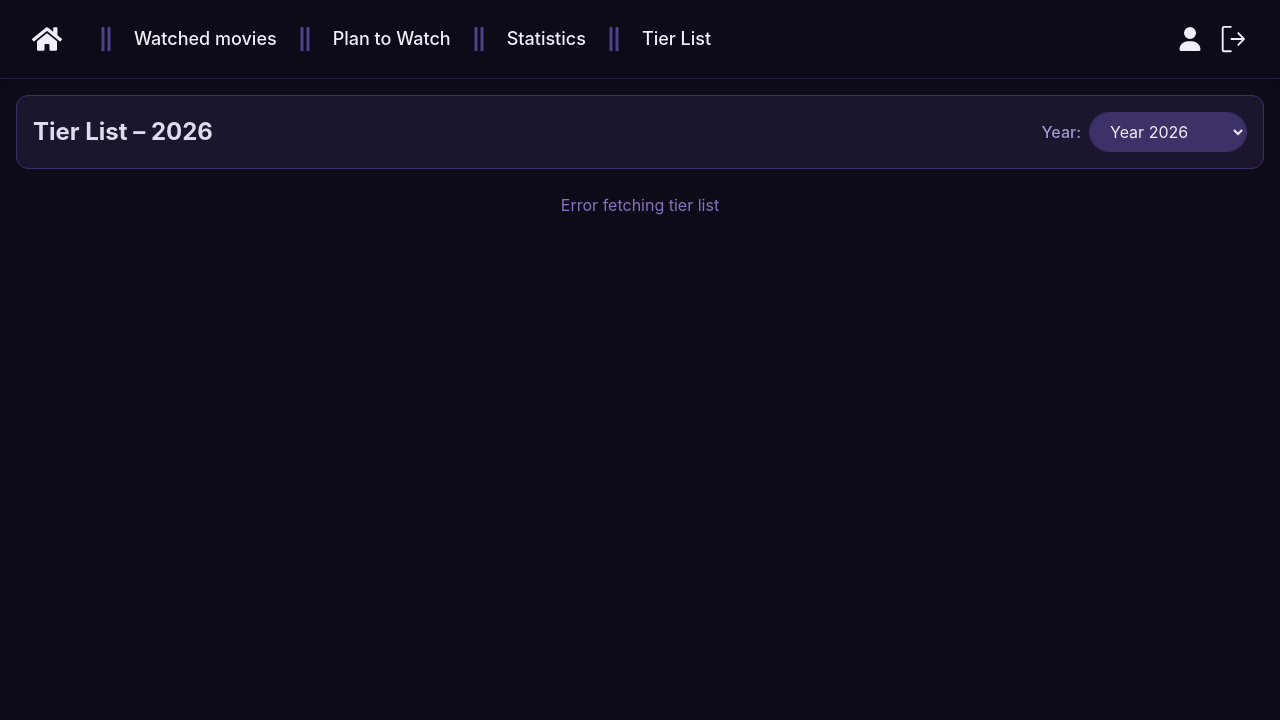
Scenario: TierList › shows the list of another year after a failed load
The width and height of the screenshot is (1280, 720).
Expected: the text "Error fetching tier list" is shown, top-left (561, 195), bottom-right (719, 215)
Select "Year 2020" in the dropdown: (1168, 132) top-left (1090, 113), bottom-right (1246, 151)
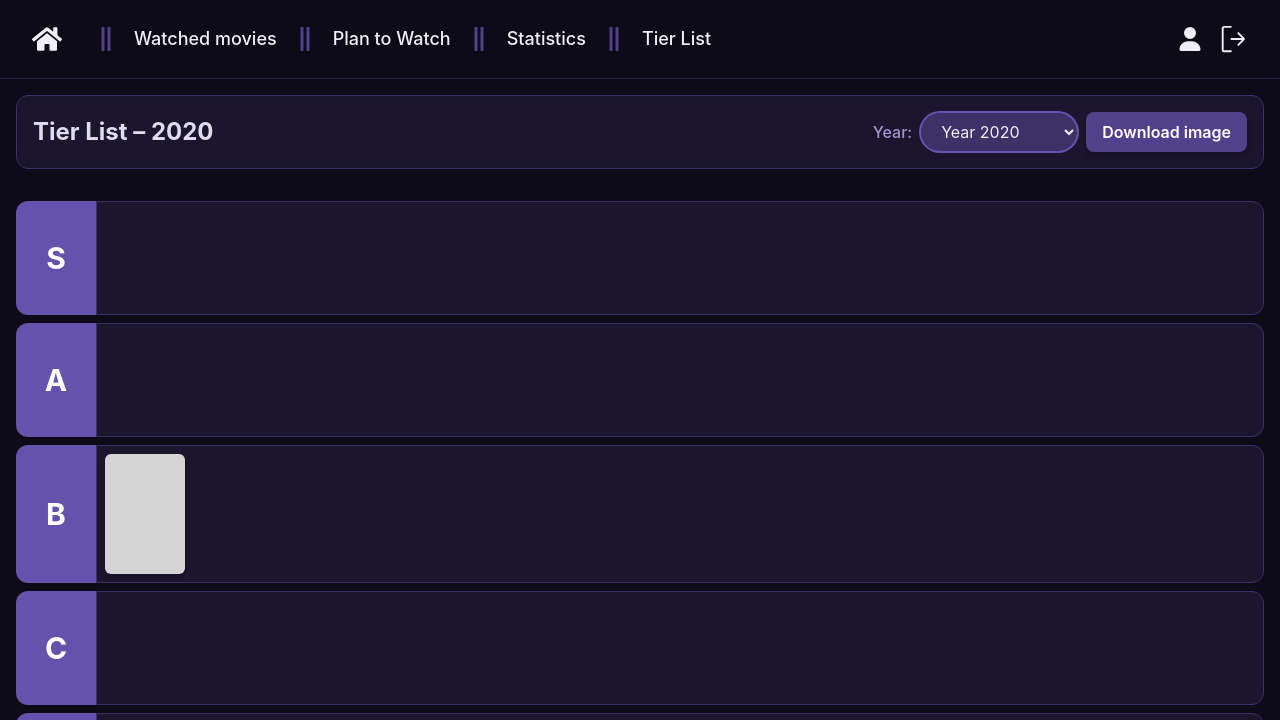
Expected: the text "Error fetching tier list" is gone
